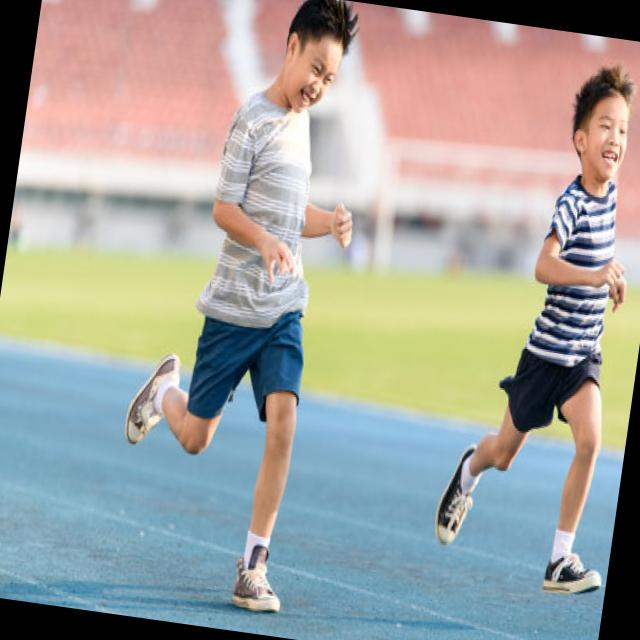Person: (99, 0, 385, 621), (427, 51, 640, 603)
